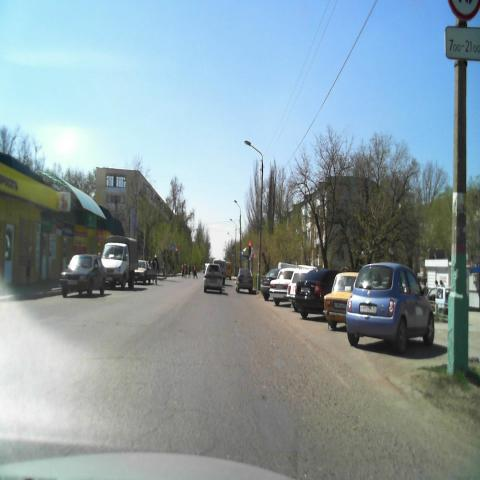8_5_4: (448, 26, 480, 60)
